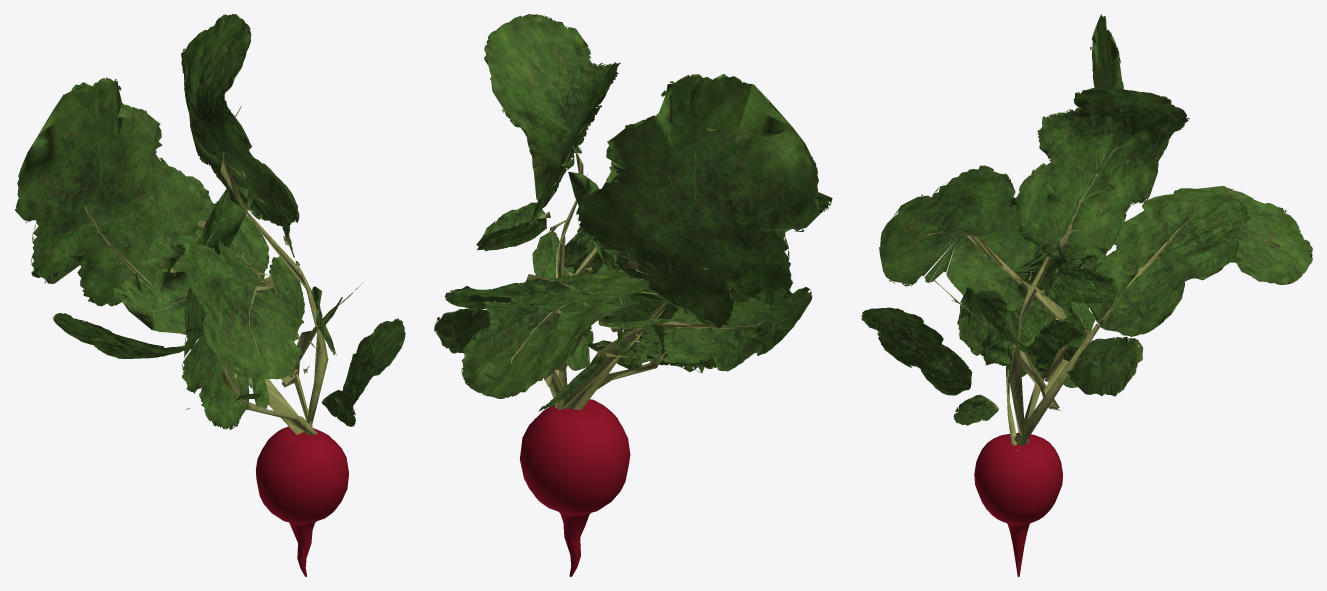
Rendered from plant_radish.glb.
3 views of the same model, side by side, from view 1: azimuth 30°, elevation 25°; view 2: azimuth 150°, elevation 25°; view 3: azimuth 270°, elevation 25° (orthographic). The views are drawn at different scales.
Parts seen in each view (by area): view 1: polySurface191_daikon_leavs_0.001, polySurface191_daikon_leavs_0.004, pSphere1_lambert4_0, polySurface191_daikon_leavs_0.005, polySurface191_daikon_leavs_0, polySurface191_daikon_leavs_0.003, polySurface191_daikon_leavs_0.002; view 2: polySurface191_daikon_leavs_0.001, polySurface191_daikon_leavs_0.003, polySurface191_daikon_leavs_0.002, pSphere1_lambert4_0, polySurface191_daikon_leavs_0.005, polySurface191_daikon_leavs_0, polySurface191_daikon_leavs_0.004; view 3: polySurface191_daikon_leavs_0.001, polySurface191_daikon_leavs_0.004, polySurface191_daikon_leavs_0.003, polySurface191_daikon_leavs_0, polySurface191_daikon_leavs_0.002, pSphere1_lambert4_0, polySurface191_daikon_leavs_0.005.
Part boxes in pixels (x1=…): polySurface191_daikon_leavs_0.001: x1=15, y1=14, x2=324, y2=354; polySurface191_daikon_leavs_0.004: x1=119, y1=164, x2=342, y2=387; pSphere1_lambert4_0: x1=255, y1=426, x2=348, y2=576; polySurface191_daikon_leavs_0.005: x1=85, y1=206, x2=317, y2=434; polySurface191_daikon_leavs_0: x1=185, y1=106, x2=405, y2=426; polySurface191_daikon_leavs_0.003: x1=52, y1=167, x2=363, y2=358; polySurface191_daikon_leavs_0.002: x1=172, y1=219, x2=312, y2=427; polySurface191_daikon_leavs_0.001: x1=484, y1=14, x2=820, y2=333; polySurface191_daikon_leavs_0.003: x1=444, y1=150, x2=812, y2=371; polySurface191_daikon_leavs_0.002: x1=434, y1=269, x2=665, y2=402; pSphere1_lambert4_0: x1=519, y1=399, x2=630, y2=576; polySurface191_daikon_leavs_0.005: x1=563, y1=276, x2=749, y2=409; polySurface191_daikon_leavs_0: x1=538, y1=145, x2=676, y2=411; polySurface191_daikon_leavs_0.004: x1=511, y1=163, x2=832, y2=386; polySurface191_daikon_leavs_0.001: x1=903, y1=14, x2=1189, y2=381; polySurface191_daikon_leavs_0.004: x1=879, y1=165, x2=1280, y2=409; polySurface191_daikon_leavs_0.003: x1=921, y1=188, x2=1250, y2=394; polySurface191_daikon_leavs_0: x1=861, y1=151, x2=1106, y2=444; polySurface191_daikon_leavs_0.002: x1=1014, y1=186, x2=1312, y2=446; pSphere1_lambert4_0: x1=974, y1=433, x2=1062, y2=576; polySurface191_daikon_leavs_0.005: x1=980, y1=197, x2=1084, y2=450.
Size of the model in its own units: 1.65 by 2.65 by 2.23.
Materials: 2 (1 with a texture image).
